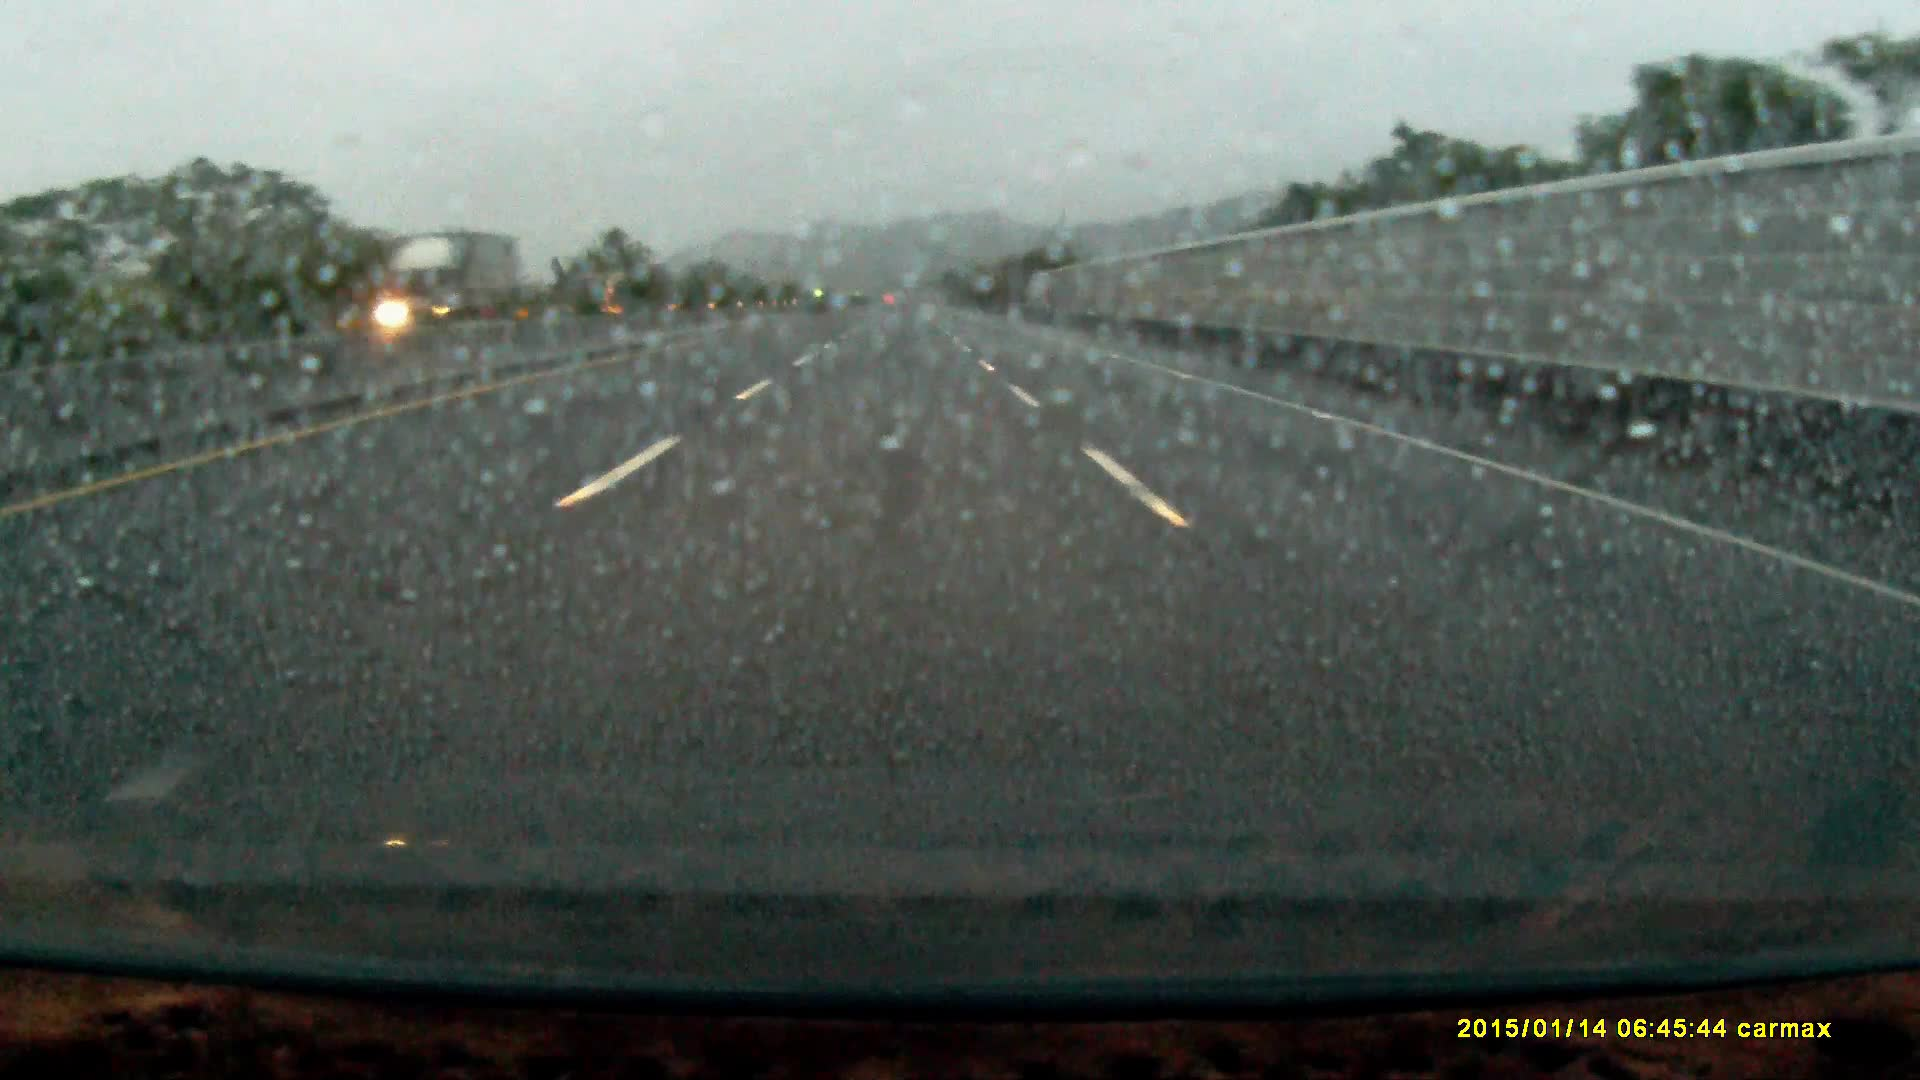vehicle: (375, 235, 522, 323)
